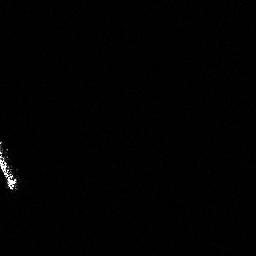ship: (1, 138, 23, 193)
